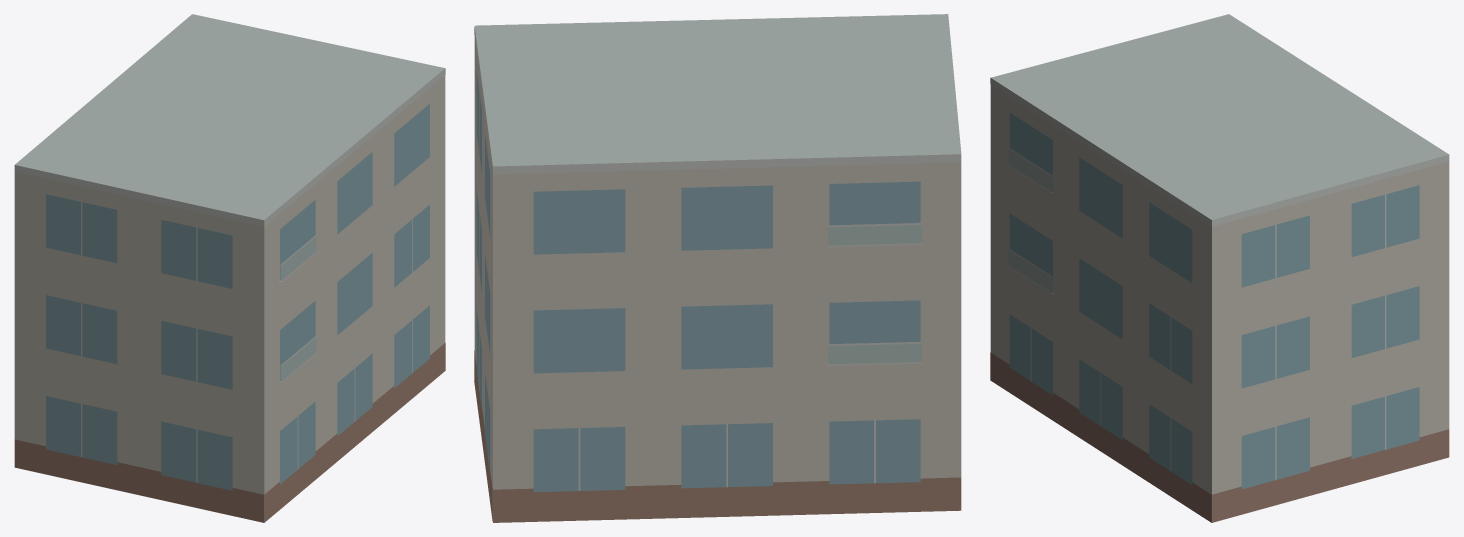
The model's file is survey-upis-32888348.glb.
3 views of the same model, side by side, from view 1: azimuth 30°, elevation 25°; view 2: azimuth 150°, elevation 25°; view 3: azimuth 270°, elevation 25° (orthographic). The views are drawn at different scales.
Visible parts, largest first — view 1: survey-upis-32888348.tmp; view 2: survey-upis-32888348.tmp; view 3: survey-upis-32888348.tmp.
Boxes of the visible parts, x1,y1,x2,y2 form: survey-upis-32888348.tmp: (14, 14, 445, 522); survey-upis-32888348.tmp: (474, 14, 961, 522); survey-upis-32888348.tmp: (990, 14, 1449, 522).
Bounding box in the file's own units: 15.92 × 10.9 × 14.98.
